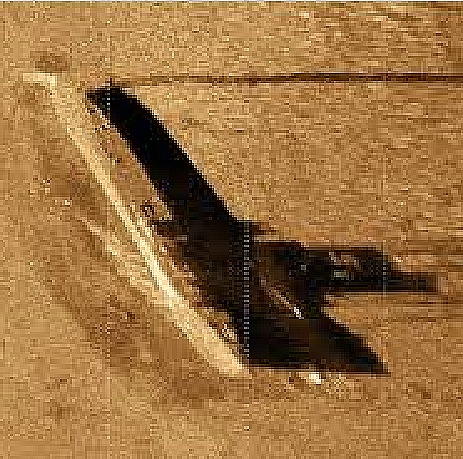ship: (47, 71, 251, 377)
